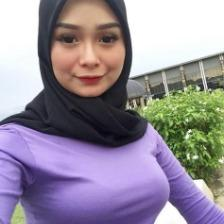Non Syar-i: (0, 1, 146, 151)
